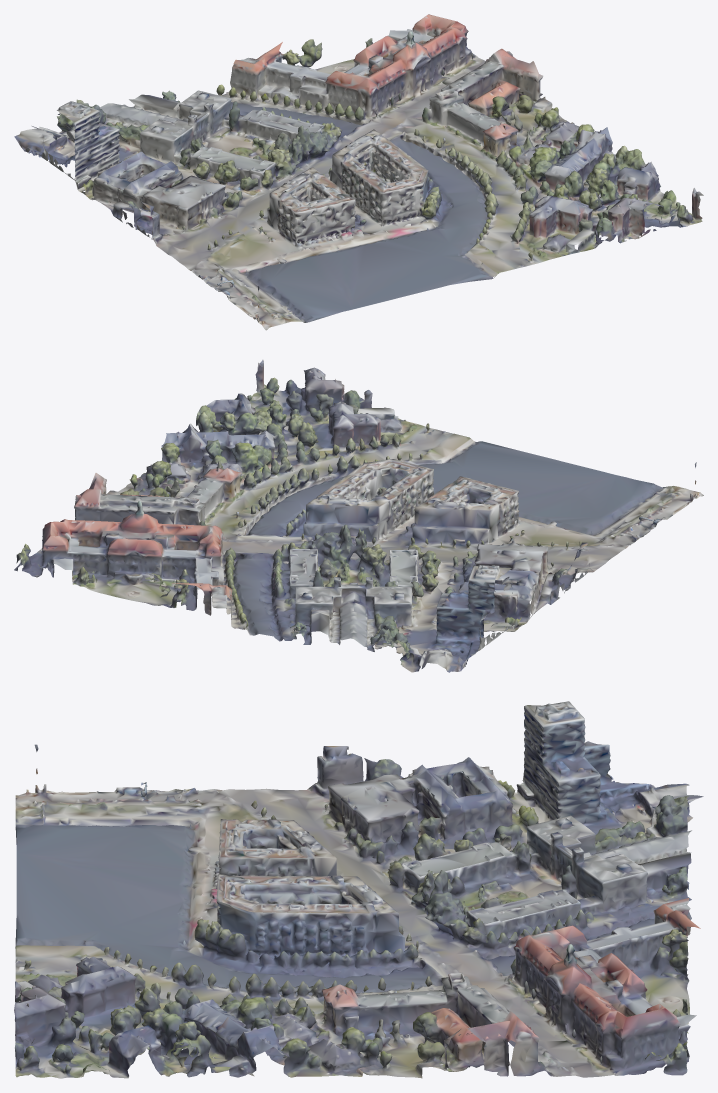
The model's file is tile-3894_58207.glb.
3 views of the same model, one above another, from view 1: azimuth 30°, elevation 25°; view 2: azimuth 150°, elevation 25°; view 3: azimuth 270°, elevation 25° (orthographic). The views are drawn at different scales.
Parts seen in each view (by area): view 1: world; view 2: world; view 3: world.
Boxes of the visible parts, x1=… form: world: x1=14, y1=14, x2=703, y2=330; world: x1=14, y1=359, x2=703, y2=672; world: x1=14, y1=701, x2=703, y2=1078.
Bounding box in the file's own units: 365 × 61.21 × 370.
